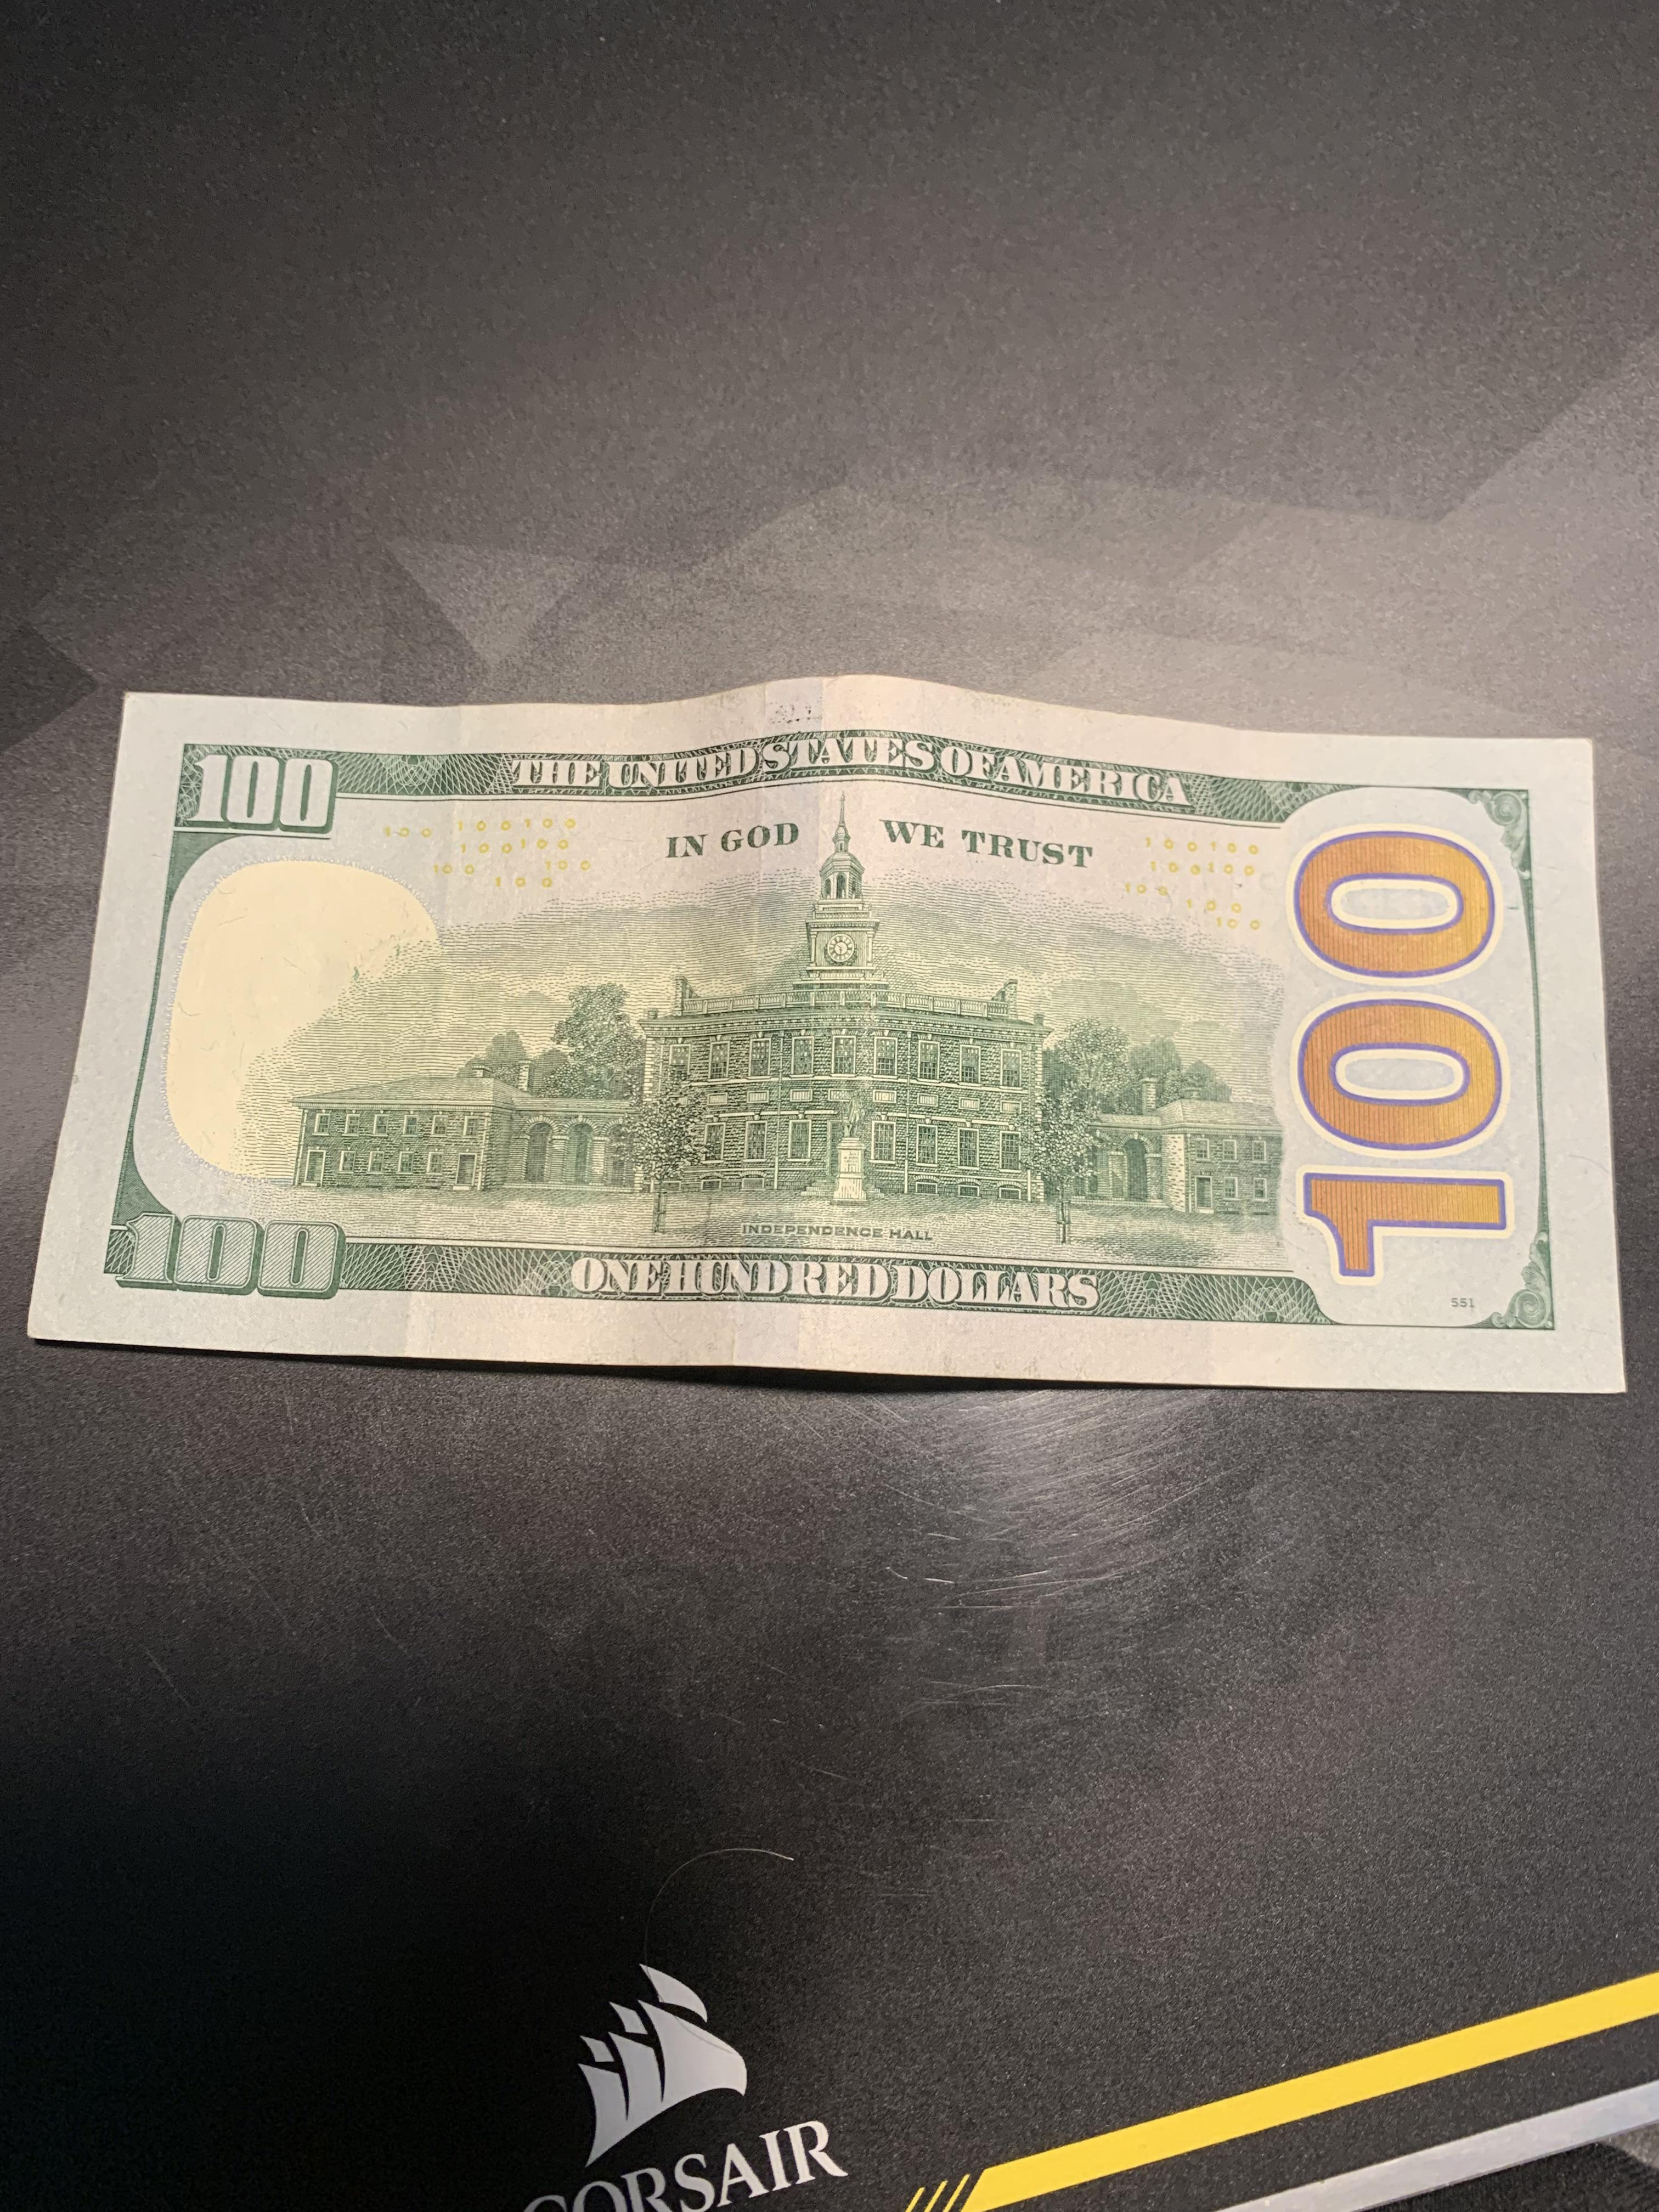HundredBill: (16, 662, 1643, 1414)
